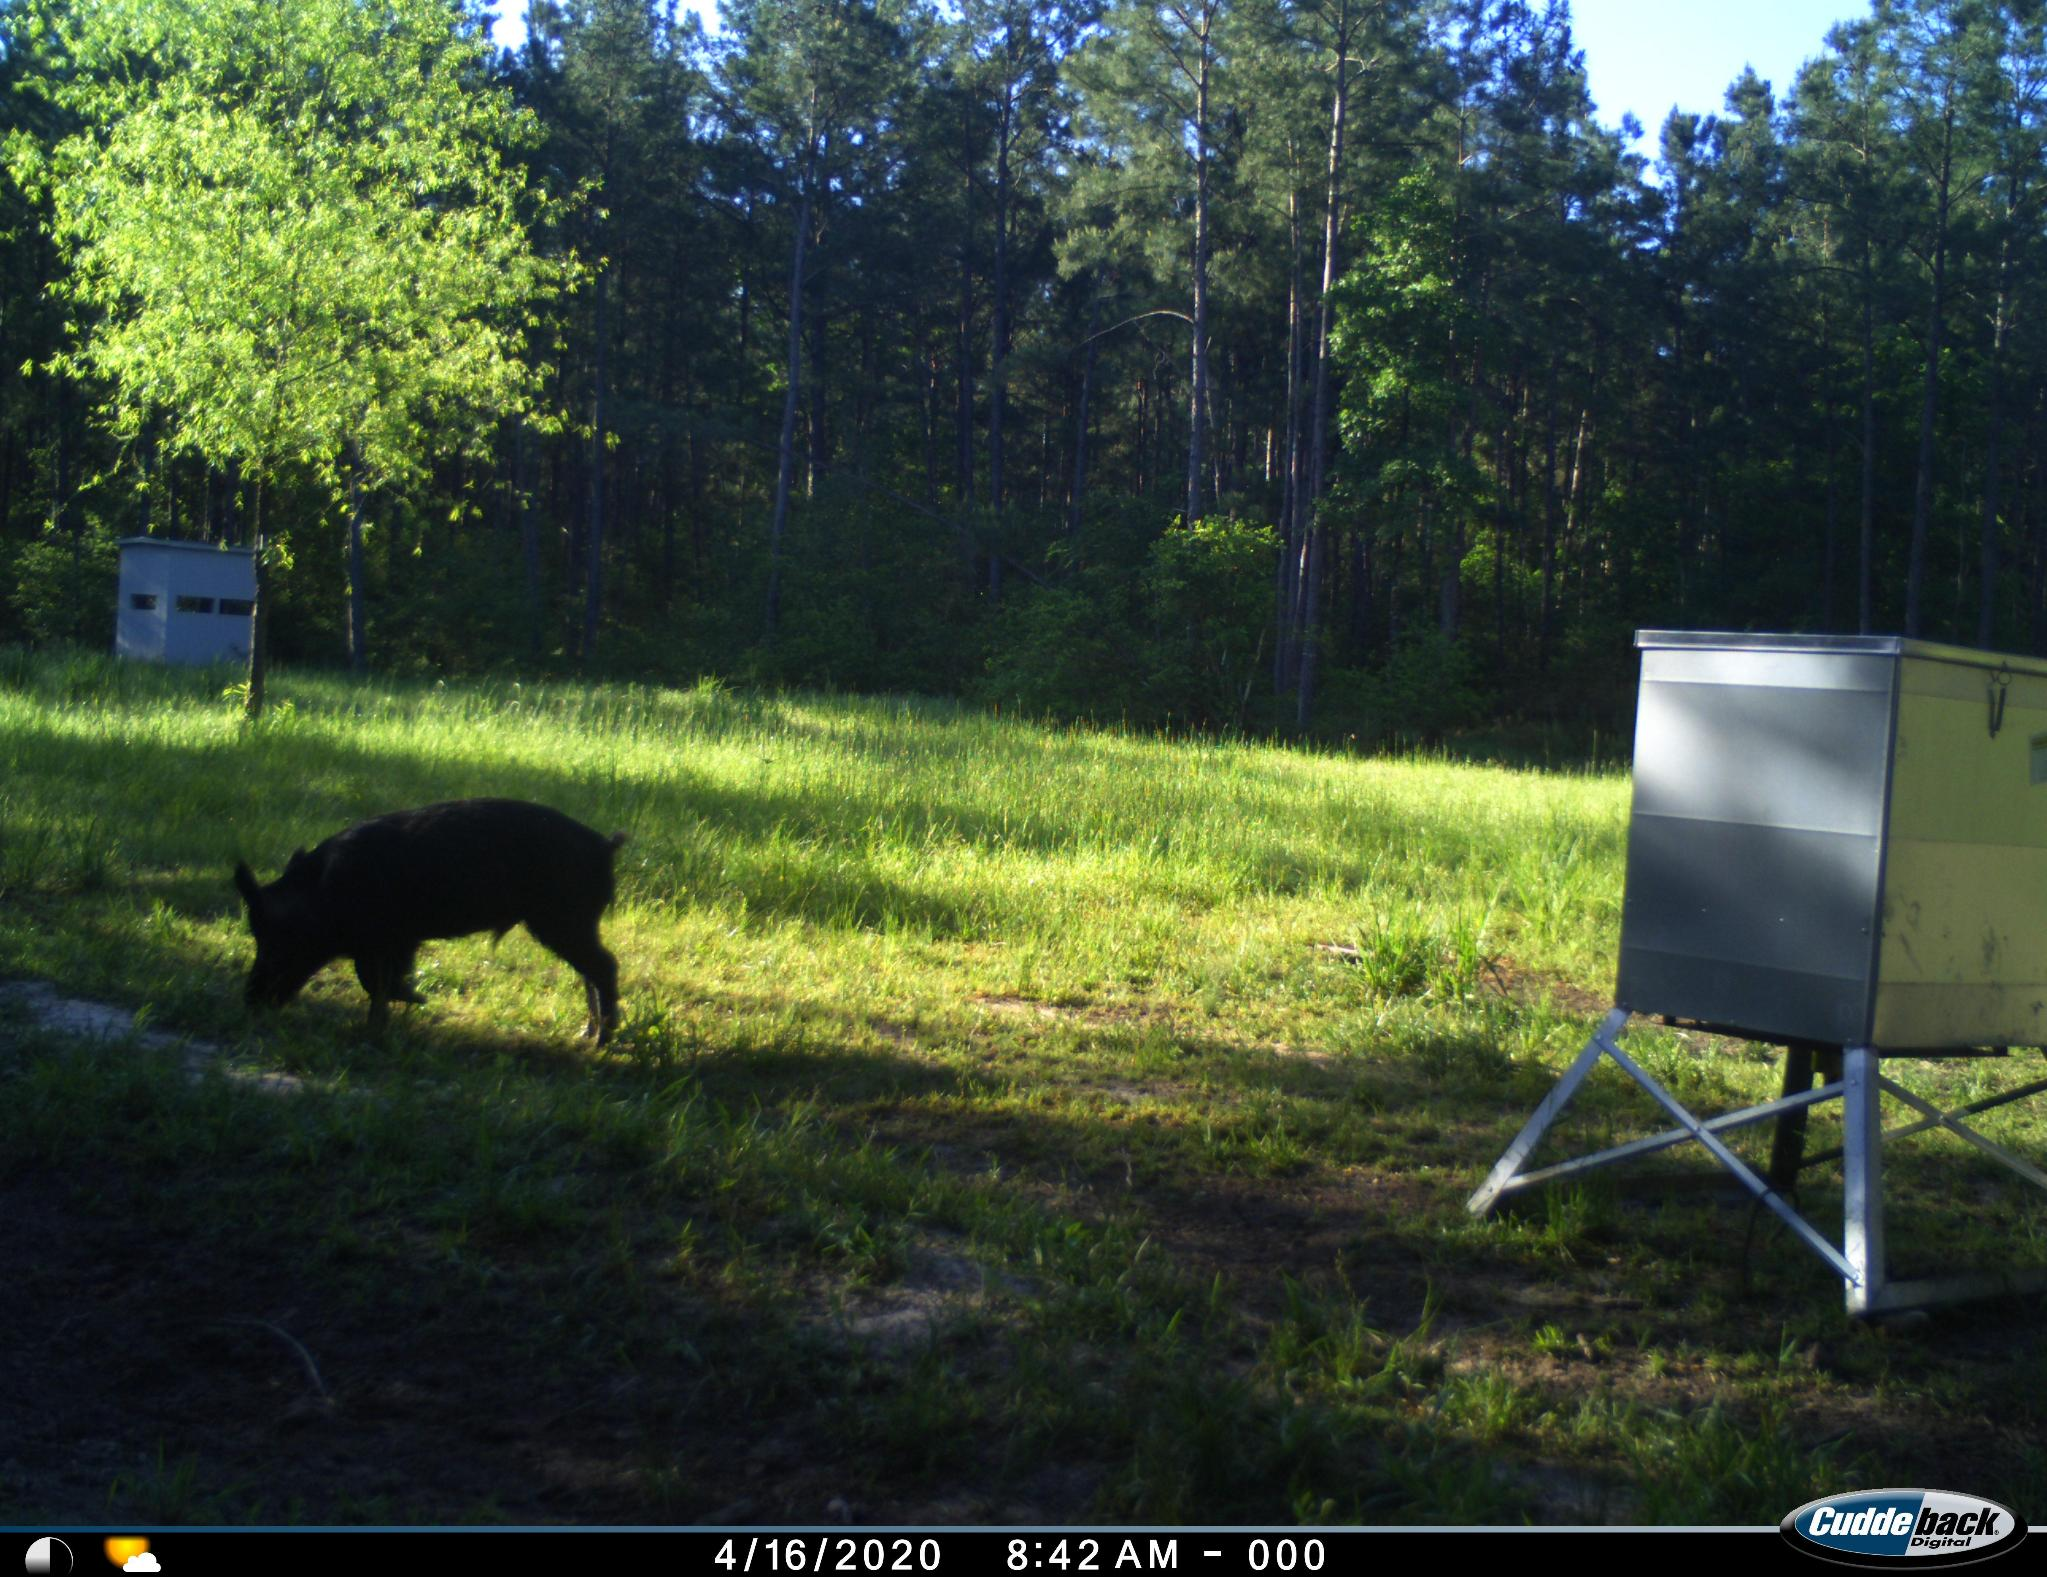Hog: (210, 792, 643, 1070)
